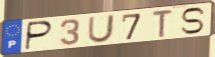3: (59, 17, 83, 47)
7: (121, 12, 143, 41)
P: (23, 20, 55, 52)
S: (179, 6, 207, 35)
T: (151, 9, 175, 39)
U: (86, 14, 116, 44)
